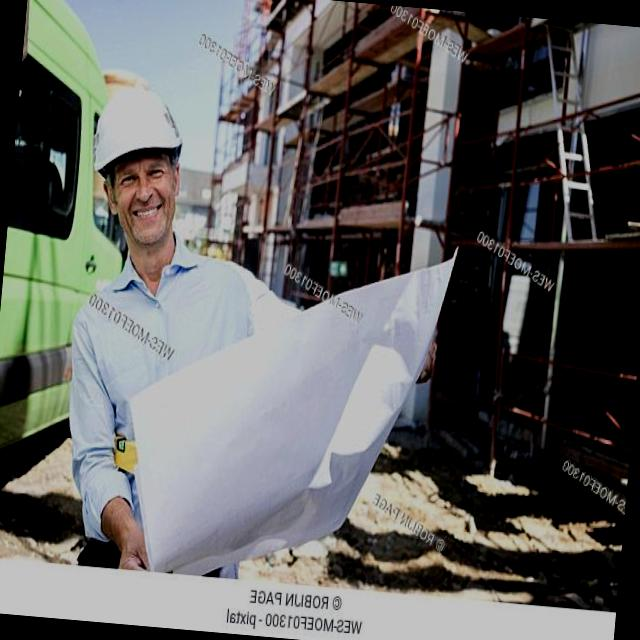helmet: (88, 69, 188, 182)
no-goggles: (100, 143, 176, 200)
no-vest: (52, 237, 256, 568)
